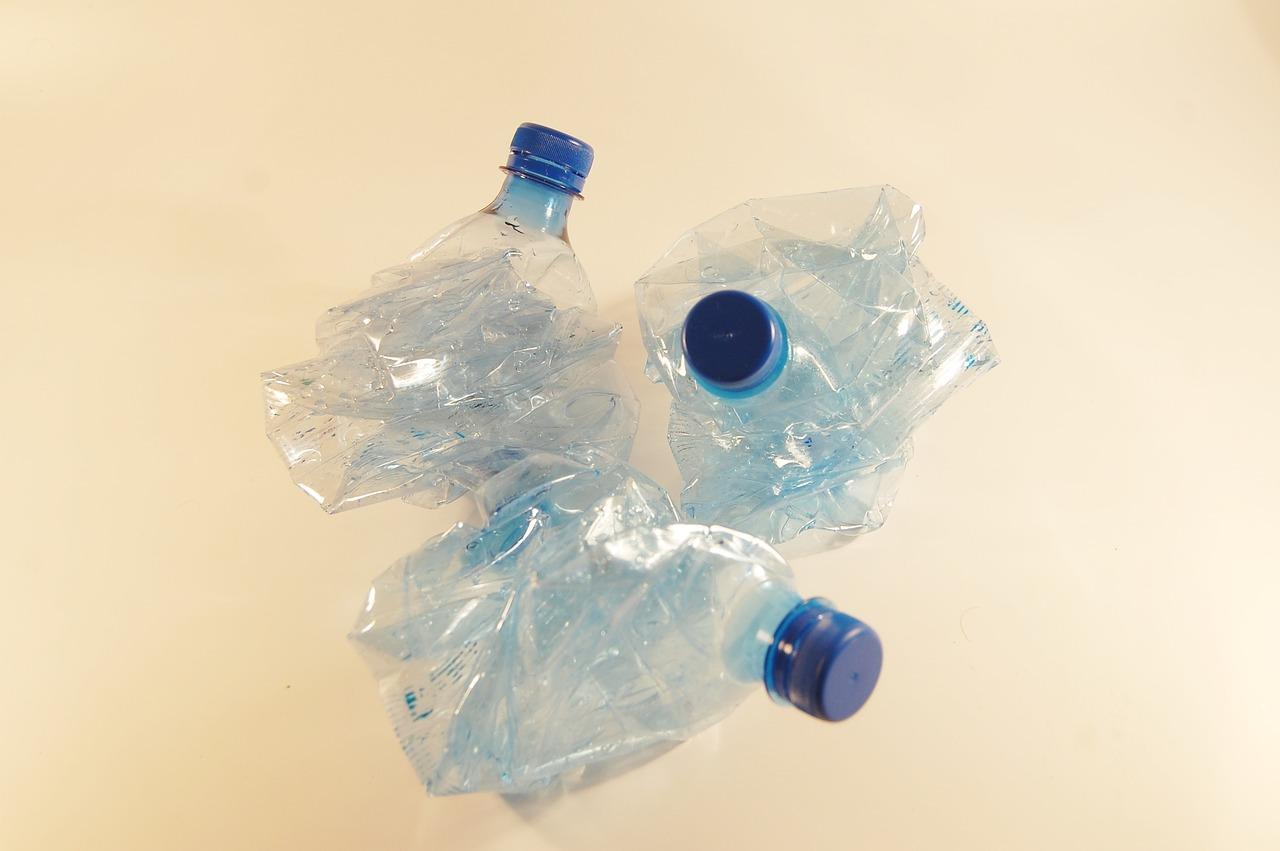Plastic: (349, 454, 883, 796), (262, 123, 639, 512), (636, 186, 1000, 553)
